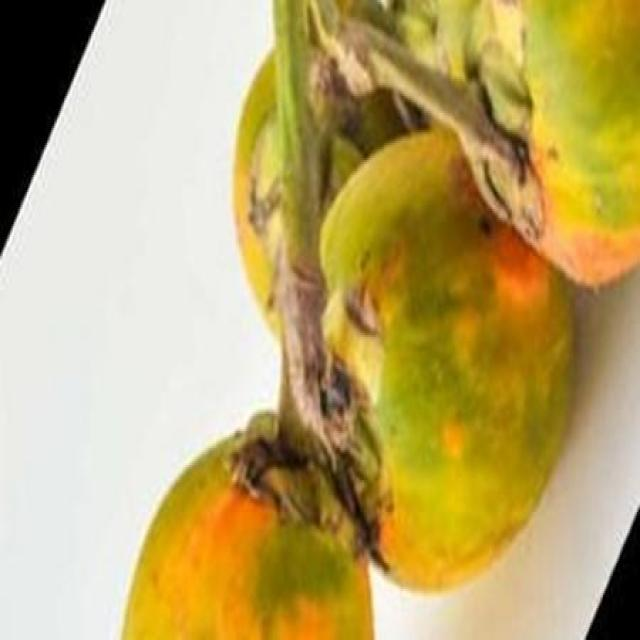good: (121, 0, 639, 638)
